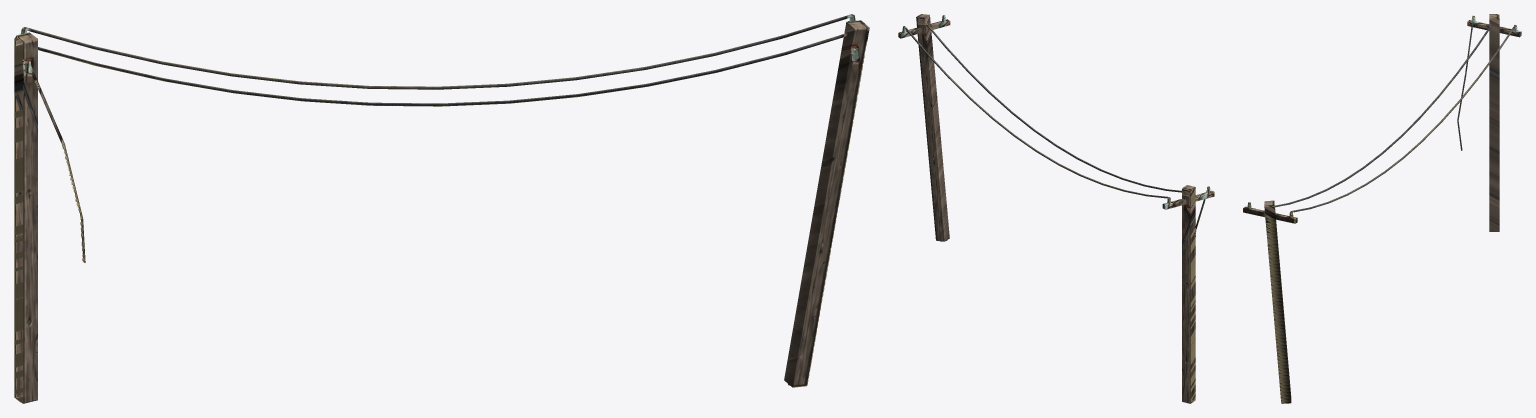
File: power_line.glb
3 renders of one model, left to right at view 1: azimuth 30°, elevation 25°; view 2: azimuth 150°, elevation 25°; view 3: azimuth 270°, elevation 25°, orthographic. The views are drawn at different scales.
Parts seen in each view (by area): view 1: power_line_game; view 2: power_line_game; view 3: power_line_game.
Boxes of the visible parts, bbox=[...] form: power_line_game: bbox=[14, 14, 869, 403]; power_line_game: bbox=[898, 14, 1214, 403]; power_line_game: bbox=[1243, 14, 1521, 403].
Size of the model in its own units: 11.88 by 6.03 by 7.09.
1 material, 1 textured.
